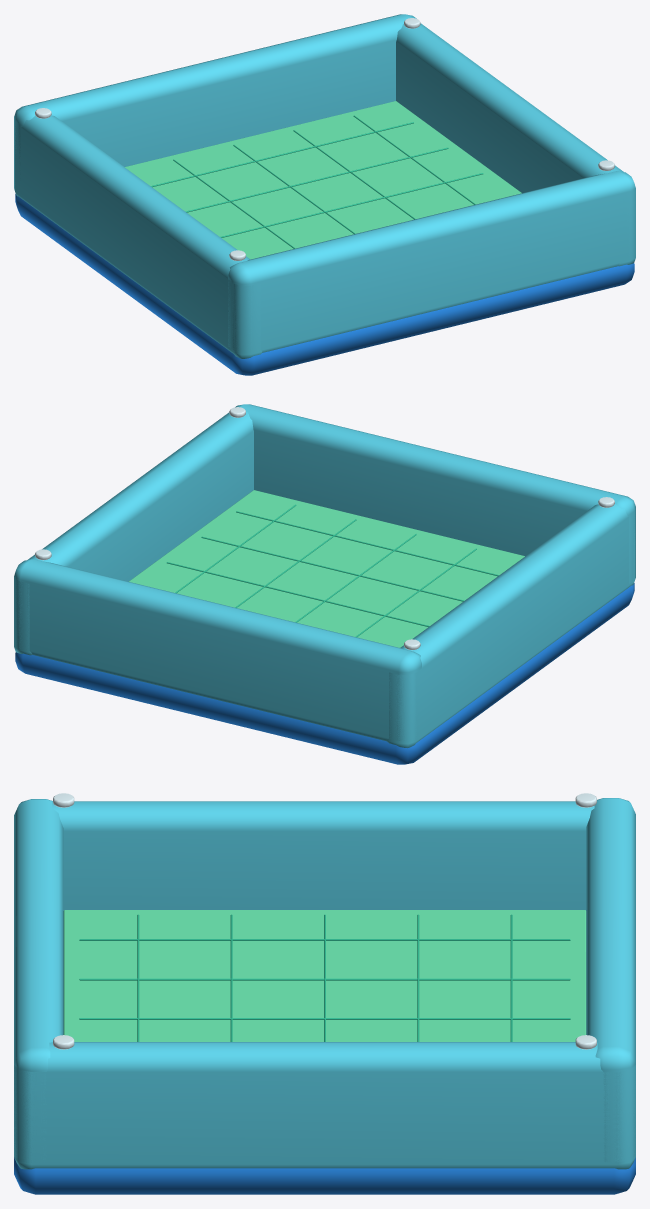
The model's file is tray_electronics.glb.
3 renders of one model, top to bottom at view 1: azimuth 30°, elevation 25°; view 2: azimuth 150°, elevation 25°; view 3: azimuth 270°, elevation 25°, orthographic. The views are drawn at different scales.
Visible parts, largest first — view 1: tray_electronics; view 2: tray_electronics; view 3: tray_electronics.
Part boxes in pixels (x1,y1,x2,y2): tray_electronics: (14, 14, 635, 375); tray_electronics: (14, 404, 635, 764); tray_electronics: (14, 793, 635, 1194).
Bounding box in the file's own units: 1 × 0.2728 × 1.
1 material, 1 textured.
